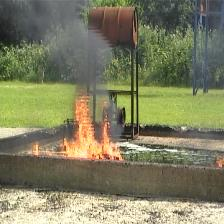fire: (35, 92, 124, 162)
